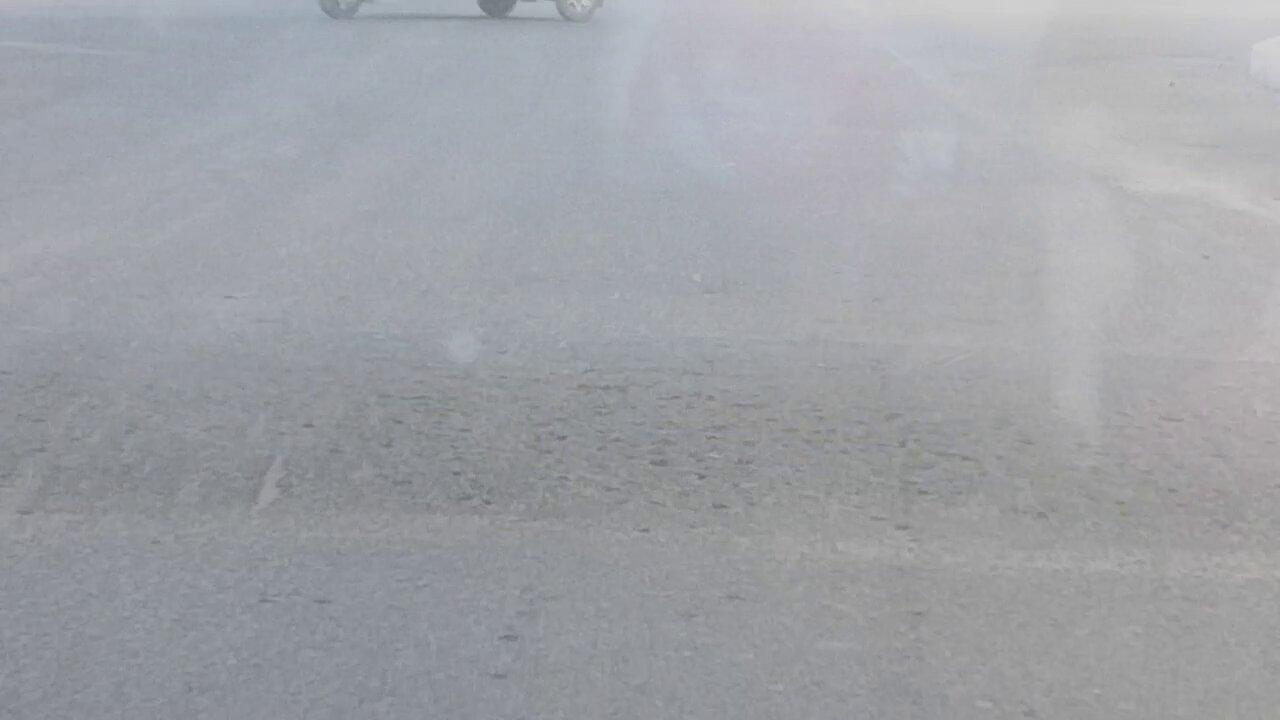Bump: (7, 323, 1280, 530)
